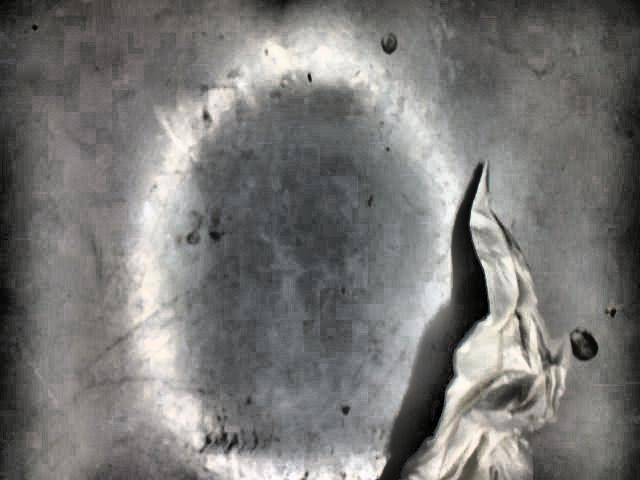Paper: (400, 160, 575, 480)
